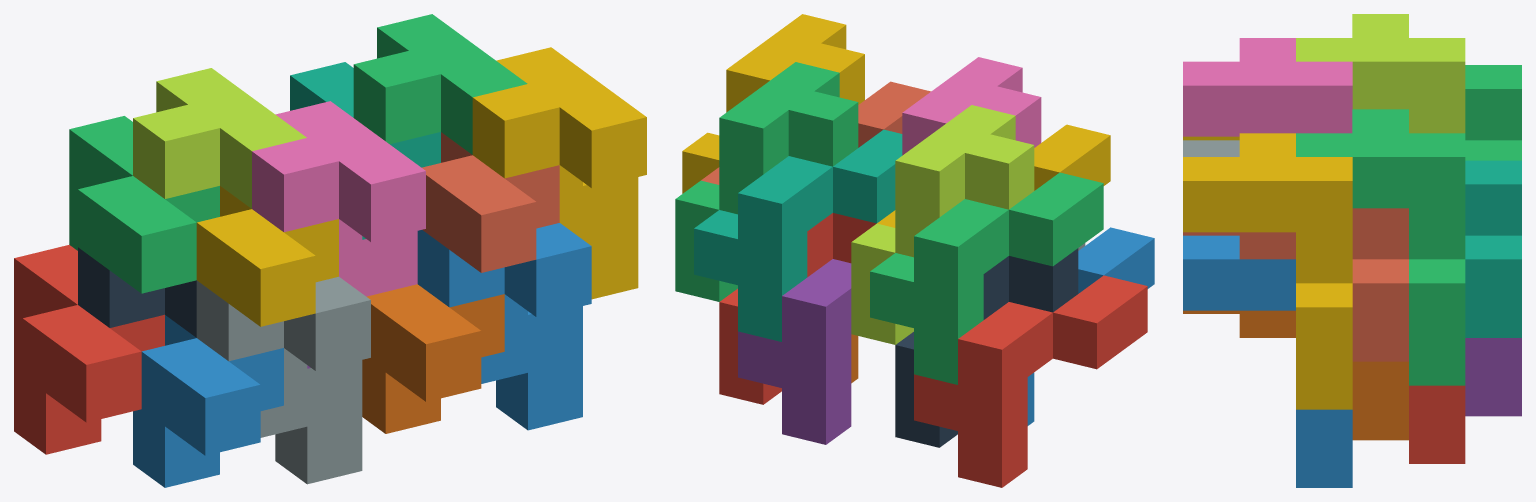
File: tiling.obj
3 views of the same model, side by side, from view 1: azimuth 30°, elevation 25°; view 2: azimuth 150°, elevation 25°; view 3: azimuth 270°, elevation 25° (orthographic). The views are drawn at different scales.
Parts seen in each view (by area): view 1: copy_2_domain_8, copy_2_domain_4, copy_1_domain_1, copy_2_domain_2, copy_2_domain_6, copy_1_domain_2, copy_1_domain_3, copy_1_domain_6, copy_2_domain_3, copy_2_domain_7, copy_1_domain_4, copy_1_domain_8 (+2 smaller); view 2: copy_1_domain_1, copy_1_domain_3, copy_1_domain_7, copy_2_domain_3, copy_2_domain_7, copy_1_domain_5, copy_2_domain_8, copy_2_domain_1, copy_2_domain_4, copy_2_domain_5, copy_1_domain_2, copy_1_domain_4 (+1 smaller); view 3: copy_2_domain_8, copy_2_domain_7, copy_2_domain_4, copy_2_domain_3, copy_2_domain_6, copy_1_domain_8, copy_1_domain_7, copy_1_domain_6, copy_1_domain_3, copy_1_domain_5, copy_2_domain_5, copy_2_domain_2.
Part boxes in pixels (left/top/right/bottom): copy_2_domain_8: left=472, top=47, right=646, bottom=299; copy_2_domain_4: left=252, top=101, right=425, bottom=296; copy_1_domain_1: left=14, top=245, right=164, bottom=454; copy_2_domain_2: left=196, top=276, right=370, bottom=484; copy_2_domain_6: left=417, top=223, right=591, bottom=430; copy_1_domain_2: left=133, top=315, right=283, bottom=487; copy_1_domain_3: left=69, top=116, right=219, bottom=293; copy_1_domain_6: left=362, top=284, right=504, bottom=433; copy_2_domain_3: left=133, top=68, right=306, bottom=208; copy_2_domain_7: left=353, top=14, right=527, bottom=154; copy_1_domain_4: left=196, top=186, right=338, bottom=326; copy_1_domain_8: left=422, top=132, right=559, bottom=272; copy_1_domain_1: left=914, top=275, right=1147, bottom=487; copy_1_domain_3: left=870, top=172, right=1103, bottom=384; copy_1_domain_7: left=694, top=129, right=902, bottom=341; copy_2_domain_3: left=851, top=105, right=1034, bottom=344; copy_2_domain_7: left=675, top=62, right=858, bottom=301; copy_1_domain_5: left=738, top=259, right=851, bottom=444; copy_2_domain_8: left=682, top=14, right=864, bottom=193; copy_2_domain_1: left=895, top=248, right=1078, bottom=447; copy_2_domain_4: left=902, top=57, right=1041, bottom=155; copy_2_domain_5: left=719, top=213, right=876, bottom=404; copy_1_domain_2: left=1027, top=227, right=1154, bottom=425; copy_1_domain_4: left=877, top=124, right=1110, bottom=227; copy_2_domain_8: left=1183, top=133, right=1352, bottom=409; copy_2_domain_7: left=1296, top=109, right=1465, bottom=385; copy_2_domain_4: left=1183, top=38, right=1352, bottom=136; copy_2_domain_3: left=1296, top=14, right=1465, bottom=133; copy_2_domain_6: left=1183, top=235, right=1352, bottom=487; copy_1_domain_8: left=1183, top=208, right=1408, bottom=361; copy_1_domain_7: left=1465, top=160, right=1521, bottom=337; copy_1_domain_6: left=1183, top=310, right=1408, bottom=440; copy_1_domain_3: left=1465, top=65, right=1521, bottom=160; copy_1_domain_5: left=1465, top=338, right=1521, bottom=416; copy_2_domain_5: left=1409, top=385, right=1465, bottom=463; copy_2_domain_2: left=1183, top=140, right=1239, bottom=156.
Bounding box in the file's own units: 10 × 6 × 6.
